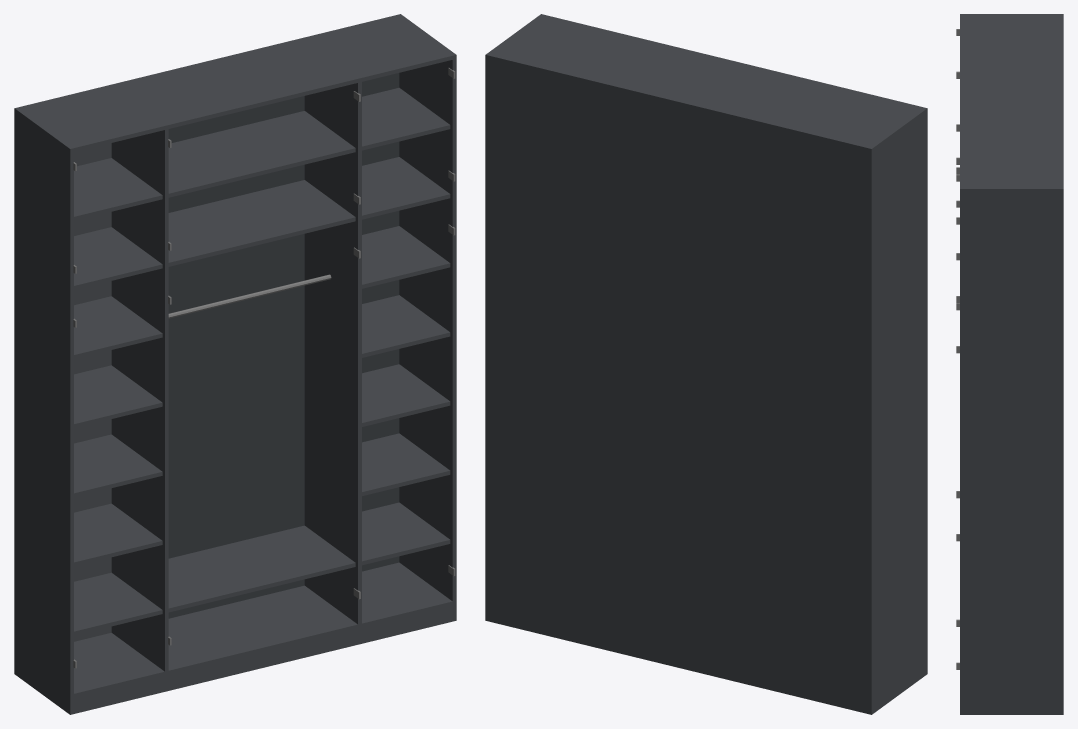
The model's file is Wardrobe9_C2.fbx.
3 renders of one model, left to right at view 1: azimuth 30°, elevation 25°; view 2: azimuth 150°, elevation 25°; view 3: azimuth 270°, elevation 25°, orthographic. The views are drawn at different scales.
Visible parts, largest first — view 1: Wardrobe9_C2; view 2: Wardrobe9_C2; view 3: Wardrobe9_C2.
Part boxes in pixels (x1,y1,x2,y2): Wardrobe9_C2: (14, 14, 456, 714); Wardrobe9_C2: (485, 14, 927, 714); Wardrobe9_C2: (956, 14, 1063, 714).
Bounding box in the file's own units: 200 × 280 × 51.79.
